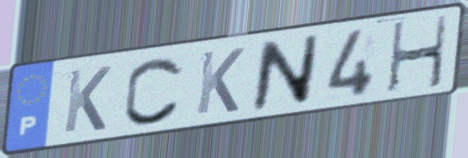4: (324, 25, 377, 100)
C: (121, 55, 187, 127)
H: (385, 12, 451, 96)
K: (60, 63, 115, 136), (193, 45, 247, 118)
N: (248, 32, 323, 114)
